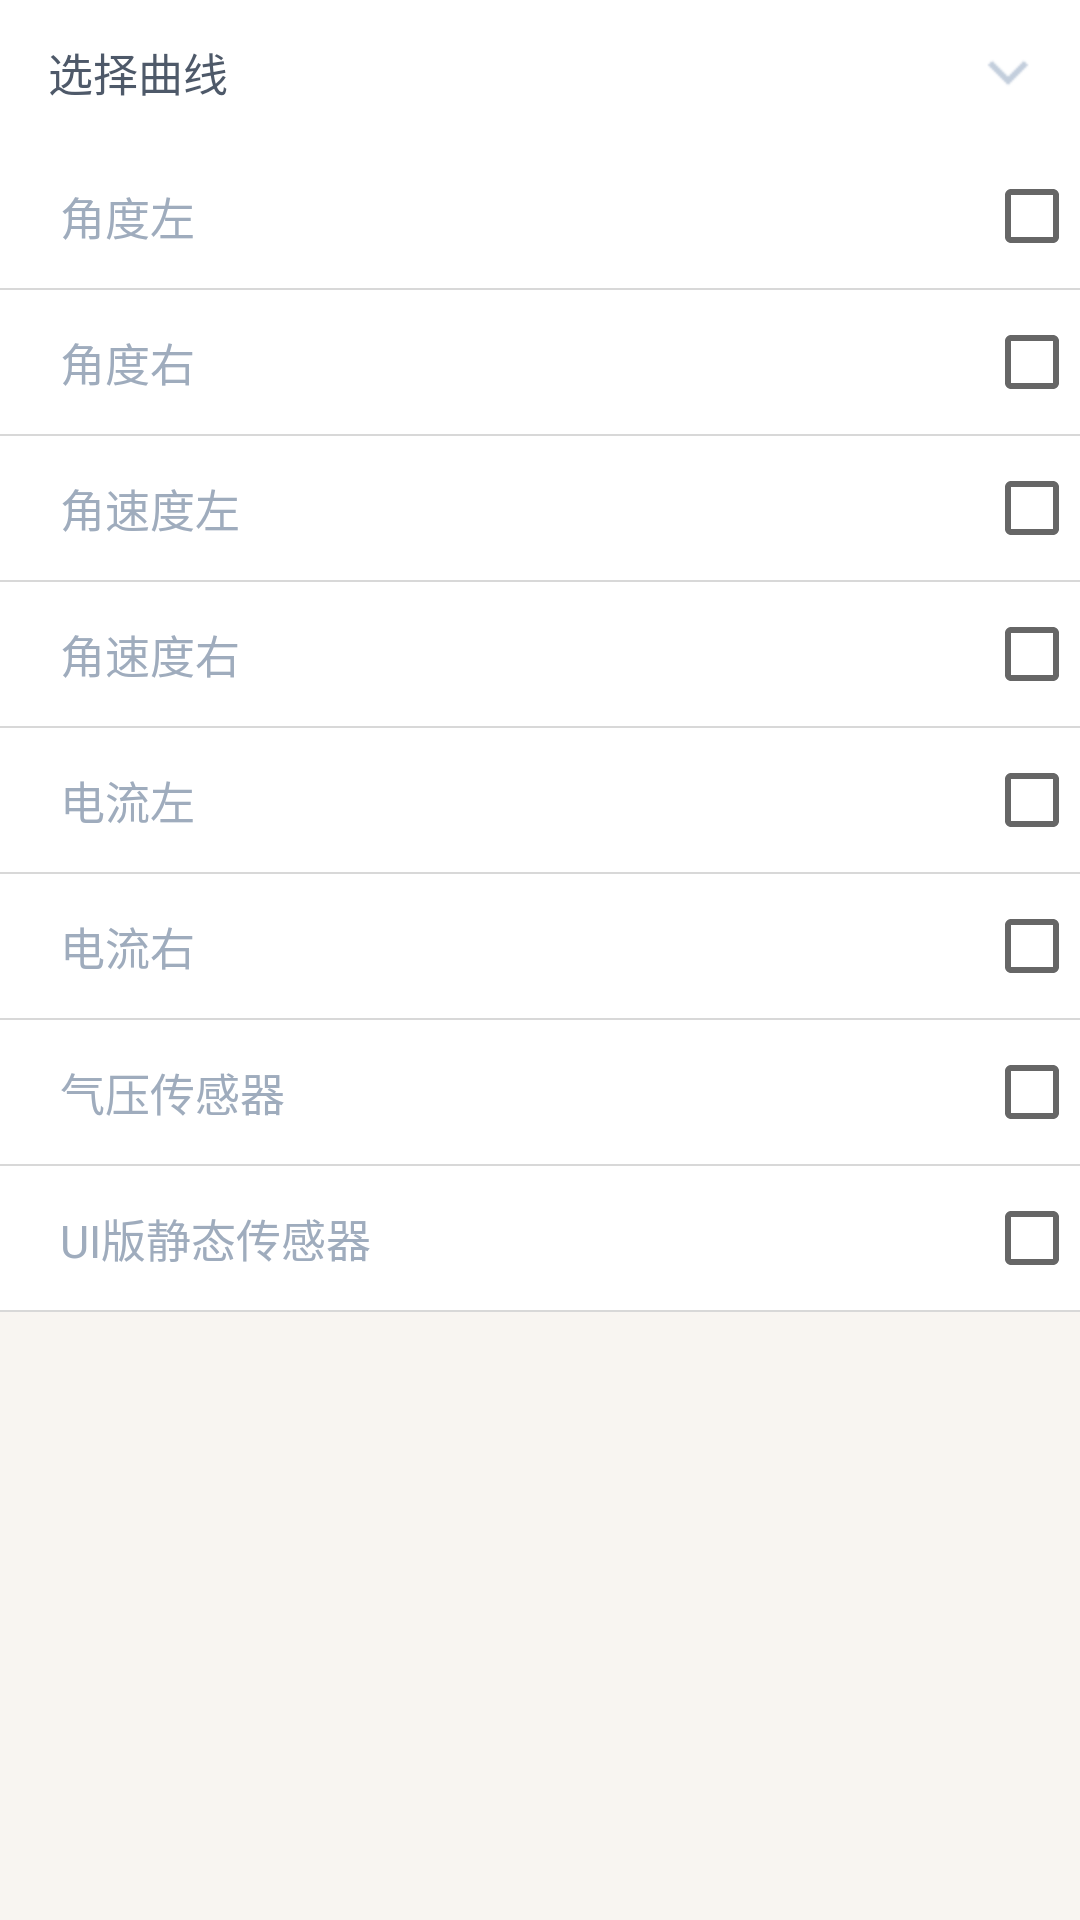

Locate icon controls on the screen. Image size 1080×1920, boxes as bbox=[x1, y1, x2, y2].
select drop down arrow: bbox=[988, 62, 1028, 84]
